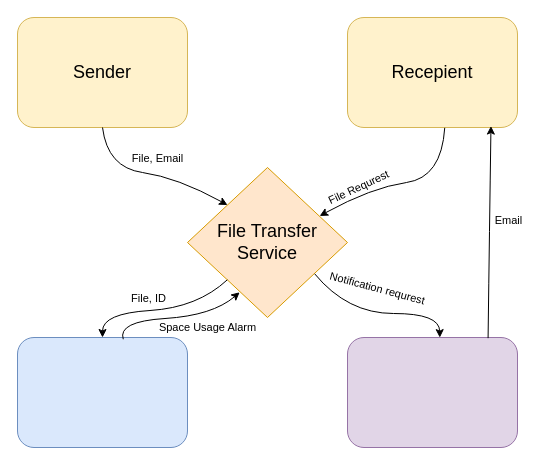
Some shapes in this 540 by 465 pixel diagram are drawn without their labels. Each missing label, with the centre of its shape:
"Cloud(FileStorage)" goes at point (102, 392).
"Email Service" goes at point (432, 392).
